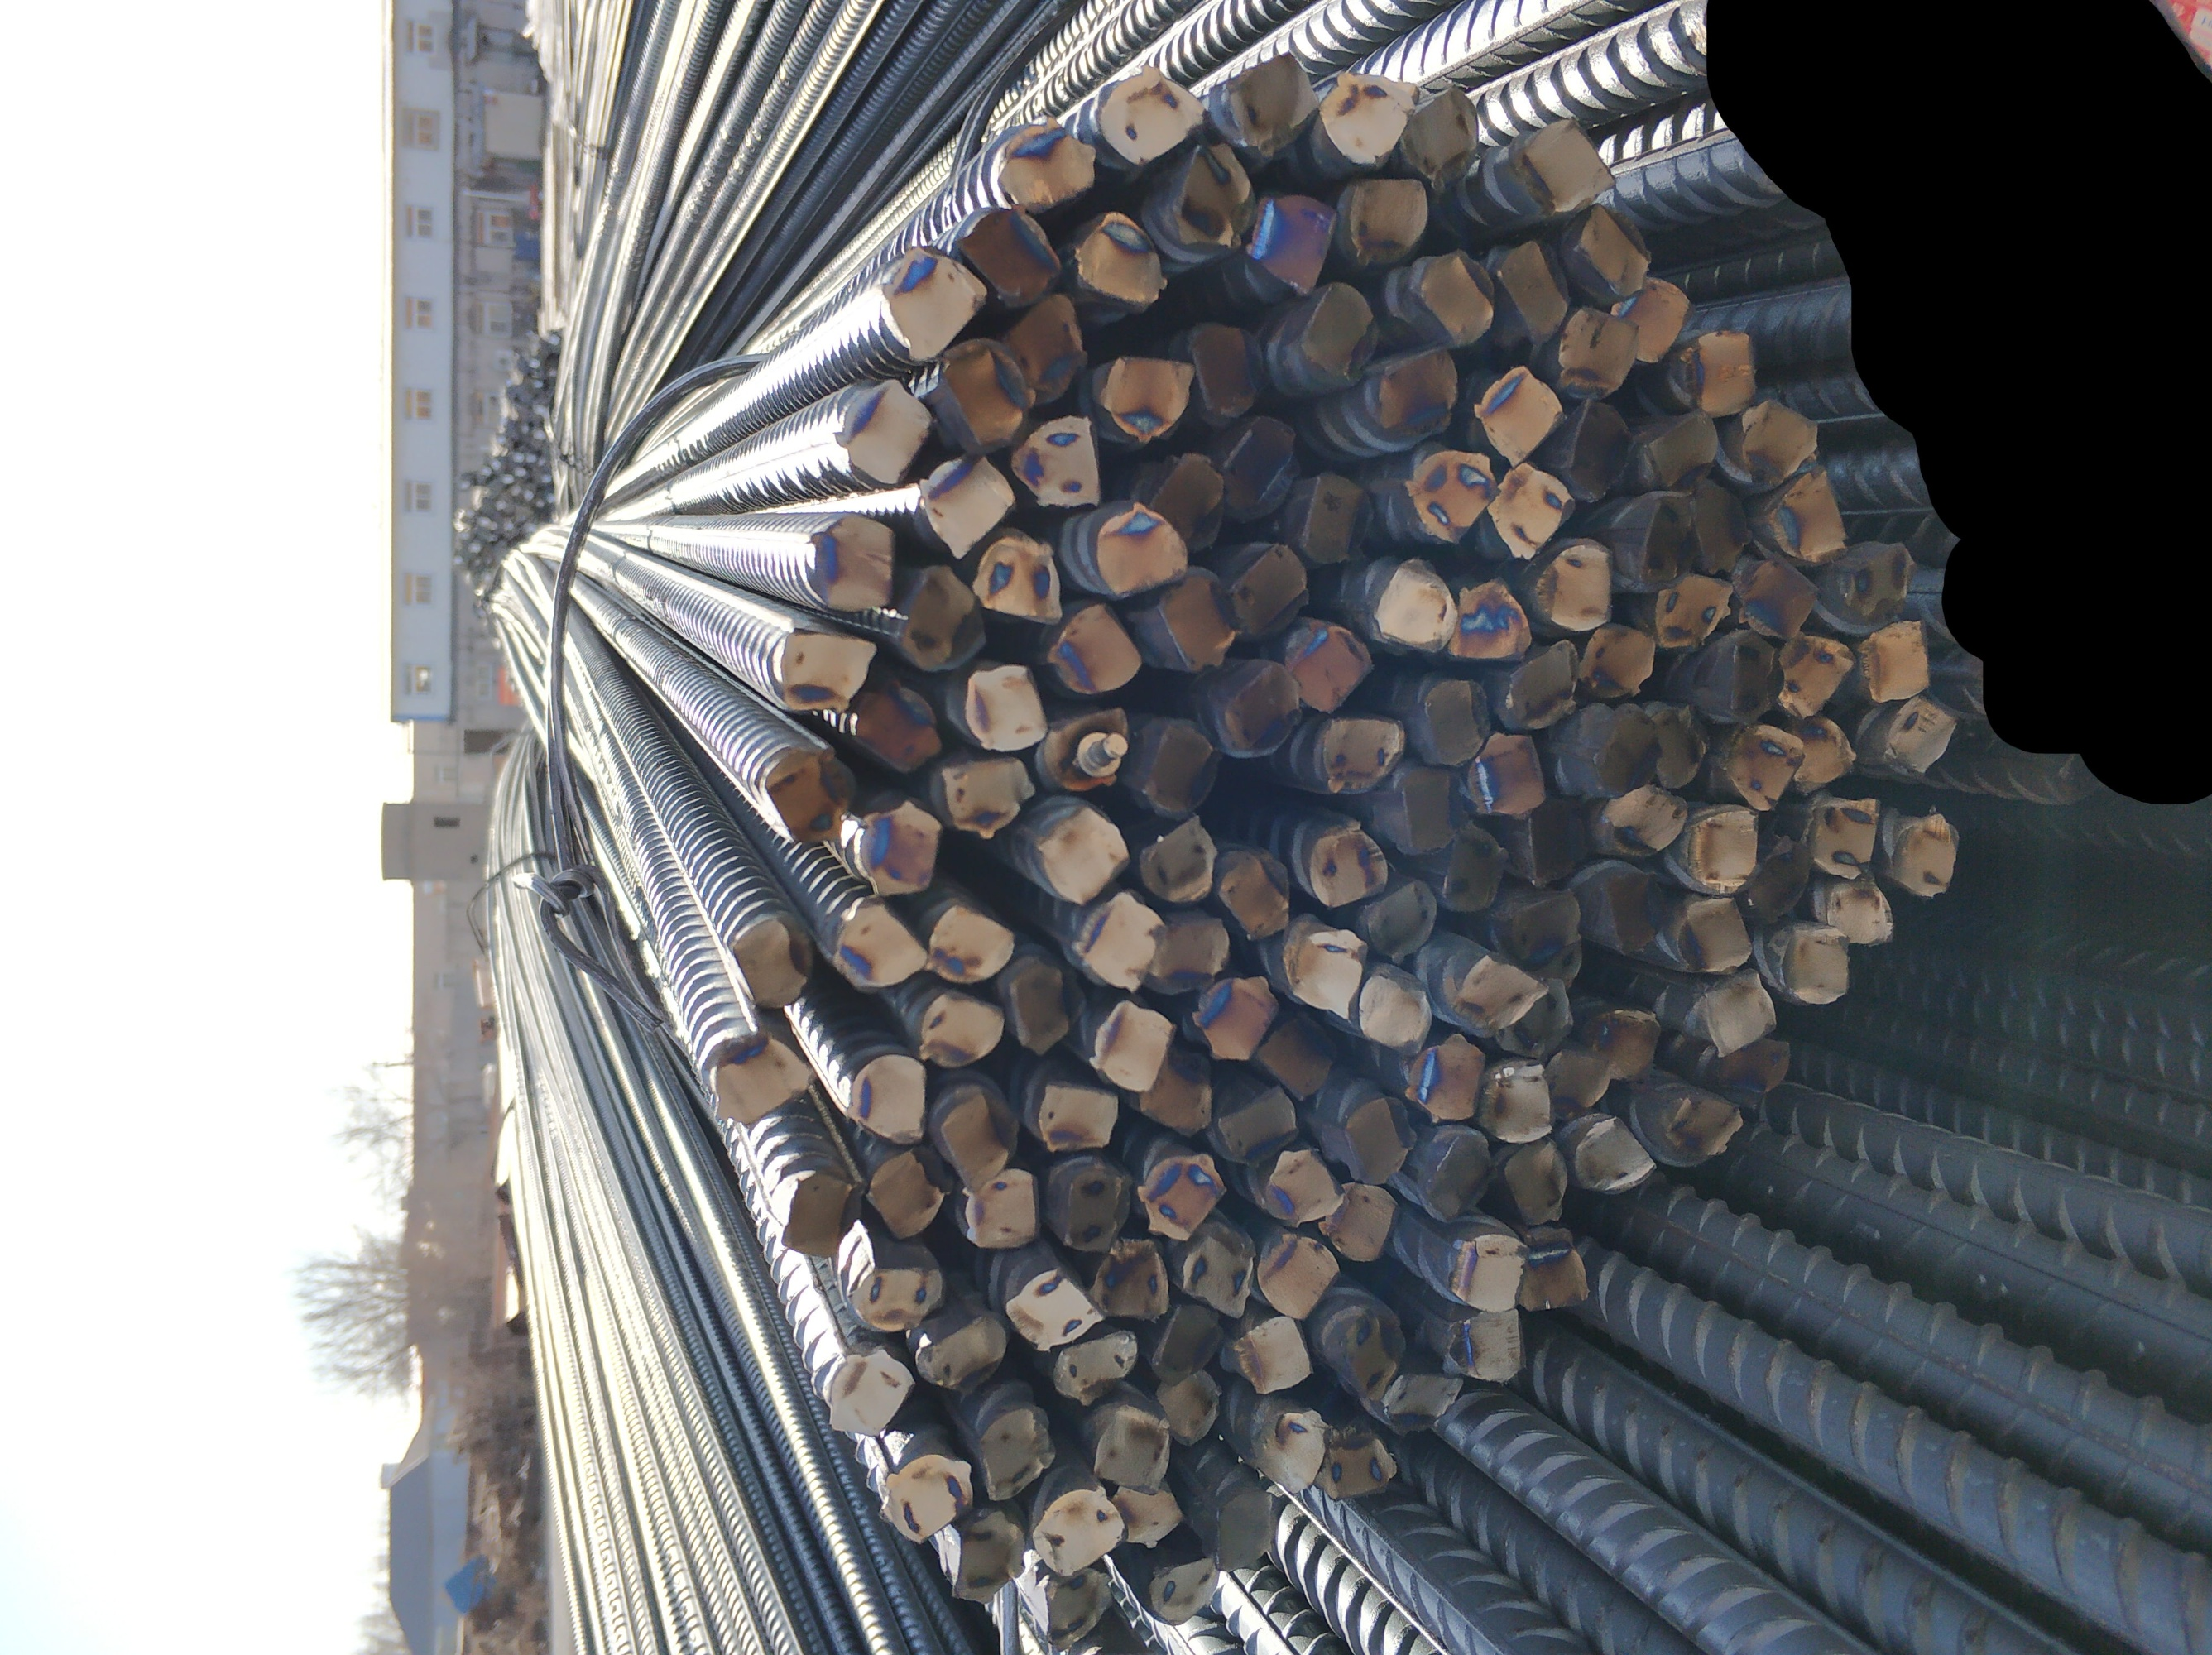rebar: (883, 243, 989, 363), (916, 445, 1017, 563), (1096, 63, 1208, 167), (897, 562, 992, 676), (935, 337, 1036, 445), (1246, 183, 1341, 296), (1517, 113, 1619, 217), (705, 1031, 815, 1128), (1070, 209, 1175, 308), (1222, 50, 1321, 153), (836, 377, 931, 483), (1003, 294, 1091, 407), (1321, 68, 1420, 169), (957, 205, 1060, 302), (996, 115, 1100, 210), (831, 895, 930, 994), (1096, 348, 1197, 445), (1475, 360, 1571, 462), (876, 1448, 975, 1545), (1010, 407, 1103, 509), (811, 509, 904, 614), (857, 791, 944, 899), (1185, 313, 1267, 426), (1279, 615, 1373, 713), (1406, 447, 1500, 544), (1133, 1146, 1229, 1240), (763, 748, 855, 845), (971, 534, 1070, 624), (1178, 139, 1258, 250), (1152, 568, 1237, 673), (824, 1346, 917, 1439), (1096, 501, 1192, 593), (1004, 1264, 1103, 1353), (775, 626, 878, 711), (1373, 553, 1458, 655), (1190, 972, 1279, 1069), (1529, 539, 1618, 636), (940, 756, 1039, 843), (1218, 657, 1303, 758), (1397, 85, 1482, 186), (1300, 276, 1381, 381), (964, 659, 1055, 753), (1037, 805, 1128, 899), (1220, 412, 1298, 520), (1142, 715, 1225, 815), (1147, 447, 1227, 551), (977, 1405, 1056, 1509), (1050, 602, 1142, 692), (1341, 174, 1430, 268), (1074, 895, 1159, 993), (940, 1083, 1017, 1191), (1489, 455, 1571, 556), (923, 899, 1015, 987), (1765, 468, 1852, 562), (1088, 994, 1173, 1090), (947, 1507, 1029, 1606), (1613, 268, 1694, 367), (1496, 235, 1571, 342), (1374, 349, 1463, 440), (1032, 1488, 1124, 1575), (732, 914, 817, 1008), (1451, 953, 1548, 1034), (1296, 469, 1378, 567), (1564, 395, 1639, 501), (1230, 537, 1308, 638), (1413, 1123, 1491, 1224), (1559, 297, 1637, 398), (848, 1050, 931, 1144), (1091, 1401, 1173, 1497), (1418, 252, 1500, 348), (848, 1259, 947, 1337), (855, 683, 944, 770), (1041, 706, 1131, 791), (1317, 713, 1407, 798), (1854, 614, 1939, 704), (1255, 1229, 1338, 1321), (1135, 1041, 1216, 1135), (1738, 398, 1819, 492), (1503, 638, 1581, 735), (1447, 575, 1536, 661), (1736, 553, 1821, 641), (1503, 892, 1585, 984), (1319, 1175, 1399, 1269), (1724, 720, 1804, 814), (1576, 205, 1652, 302), (1218, 1080, 1303, 1166), (921, 1311, 1008, 1396), (1255, 1010, 1338, 1099), (865, 1149, 945, 1241), (1682, 798, 1762, 890), (1289, 923, 1362, 1024), (1341, 1090, 1414, 1189), (1588, 704, 1668, 794), (1056, 1158, 1133, 1252), (1359, 876, 1442, 961), (1447, 1224, 1522, 1318), (921, 986, 1004, 1069), (1467, 730, 1550, 814), (1136, 815, 1216, 902), (1402, 1029, 1480, 1118), (1593, 867, 1672, 956), (1420, 673, 1494, 765), (1394, 763, 1467, 857), (1089, 1236, 1169, 1321), (1802, 794, 1880, 881), (1050, 1328, 1138, 1405), (1776, 628, 1851, 718), (1255, 1401, 1328, 1493), (1498, 1133, 1569, 1227), (1036, 1568, 1117, 1650), (961, 1166, 1041, 1250), (1143, 916, 1229, 994), (1442, 1306, 1527, 1384), (1498, 972, 1576, 1057), (1779, 708, 1858, 793), (1637, 490, 1703, 591), (1234, 1314, 1314, 1396), (1263, 1144, 1343, 1226), (1691, 325, 1760, 419), (1604, 782, 1689, 859), (1838, 537, 1915, 622), (1892, 812, 1965, 901), (1513, 1233, 1593, 1313), (1573, 1118, 1654, 1196), (1308, 826, 1392, 902), (1215, 852, 1289, 937), (1036, 1078, 1121, 1153), (1180, 1231, 1255, 1316), (1380, 1365, 1465, 1439), (1882, 695, 1957, 781), (1722, 629, 1790, 723), (1580, 621, 1656, 702), (1651, 568, 1727, 650), (1340, 1311, 1407, 1403), (1479, 1057, 1553, 1140), (1703, 967, 1776, 1052), (1008, 960, 1070, 1059), (1442, 824, 1512, 913), (1359, 972, 1432, 1055), (1654, 1087, 1741, 1156), (1642, 701, 1712, 788), (1748, 833, 1816, 921), (1529, 793, 1592, 888), (1647, 409, 1724, 487), (1691, 476, 1752, 574), (1145, 1551, 1223, 1625), (782, 1172, 848, 1259), (1324, 1426, 1399, 1502), (1154, 1306, 1225, 1386), (1680, 897, 1753, 974), (1781, 927, 1852, 1005), (1213, 1483, 1274, 1570), (1154, 1368, 1220, 1448), (1588, 1008, 1661, 1080), (1109, 1479, 1182, 1547), (1826, 880, 1896, 947), (1719, 1034, 1791, 1095), (1541, 1050, 1616, 1109)
